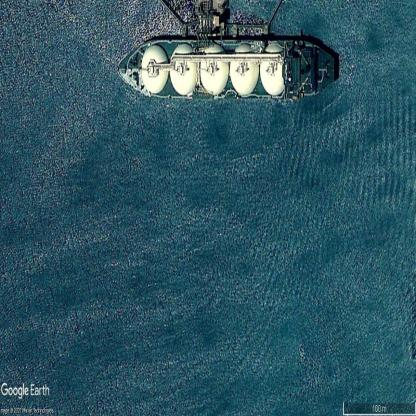ship: (117, 38, 341, 96)
